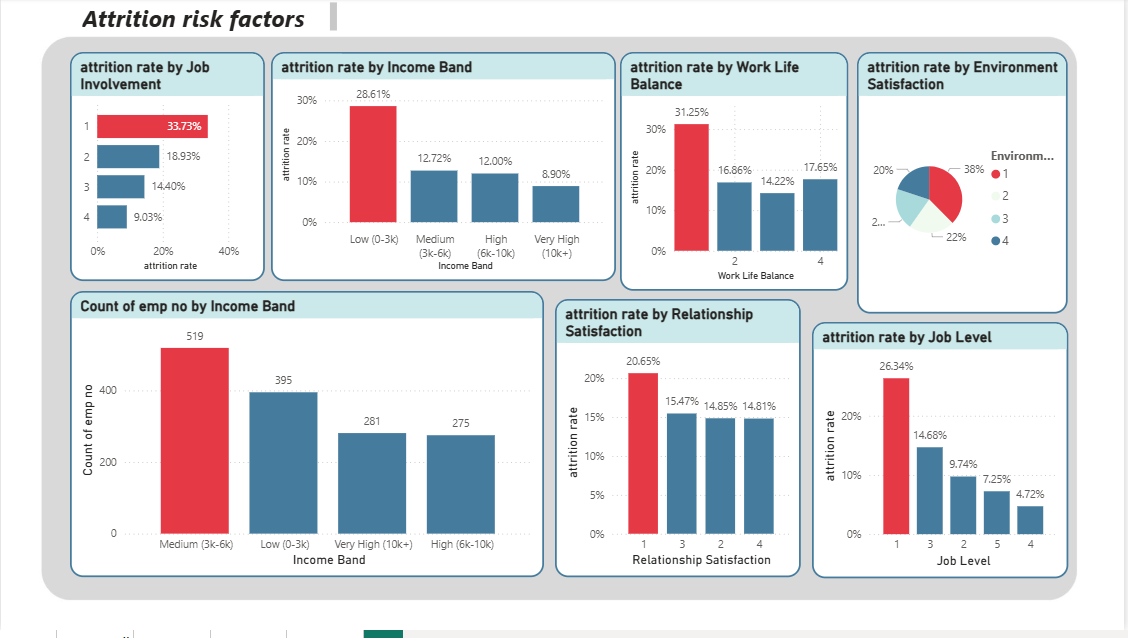

What the dashboard file says about the page in this screenshot:
{"tool":"powerbi","page":{"name":"Page 5","canvas":[1280,720],"ordinal":1},"visuals":[{"type":"barChart","fields":{"Y":["HR.attrition rate"],"Category":["HR.Job Involvement"]},"box":[78.4,61.7,222.3,260.9],"z":0},{"type":"columnChart","fields":{"Category":["HR.Income Band"],"Y":["HR.attrition rate"]},"box":[307.1,61.7,393.3,260.9],"z":1},{"type":"pieChart","fields":{"Category":["HR.Environment Satisfaction"],"Y":["HR.attrition rate"]},"box":[975.4,61.7,240.3,298.2],"z":2},{"type":"columnChart","fields":{"Y":["CountNonNull(HR.emp no)"],"Category":["HR.Income Band"]},"box":[78.4,334.1,539.8,326.4],"z":3},{"type":"columnChart","fields":{"Y":["HR.attrition rate"],"Category":["HR.Relationship Satisfaction"]},"box":[631,343.1,280.2,317.4],"z":4},{"type":"columnChart","fields":{"Y":["HR.attrition rate"],"Category":["HR.Job Level"]},"box":[924,368.8,291.7,291.7],"z":5},{"type":"columnChart","fields":{"Y":["HR.attrition rate"],"Category":["HR.Work Life Balance"]},"box":[705.5,61.7,259.6,272.4],"z":6},{"type":"textbox","box":[88.7,0,299.4,60.4],"z":7}]}

Visuals, with their boxes in screenshot pixels (x1, y1, x2, y2), scaled from the page's 1280x720 canvas onto the 1128x638 screenshot:
barChart - HR.attrition rate x HR.Job Involvement: (69, 55, 265, 286)
columnChart - HR.Income Band x HR.attrition rate: (271, 55, 617, 286)
pieChart - HR.Environment Satisfaction x HR.attrition rate: (860, 55, 1071, 319)
columnChart - CountNonNull(HR.emp no) x HR.Income Band: (69, 296, 545, 585)
columnChart - HR.attrition rate x HR.Relationship Satisfaction: (556, 304, 803, 585)
columnChart - HR.attrition rate x HR.Job Level: (814, 327, 1071, 585)
columnChart - HR.attrition rate x HR.Work Life Balance: (622, 55, 850, 296)
textbox: (78, 0, 342, 54)
